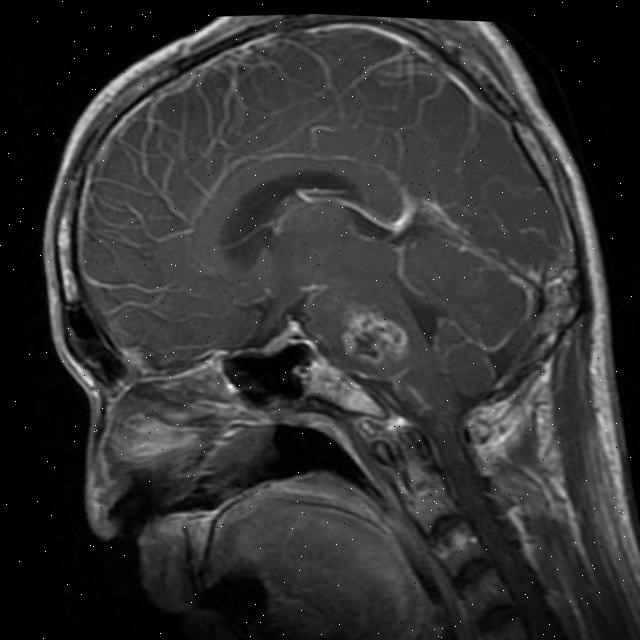Glioma: (334, 301, 414, 367)
